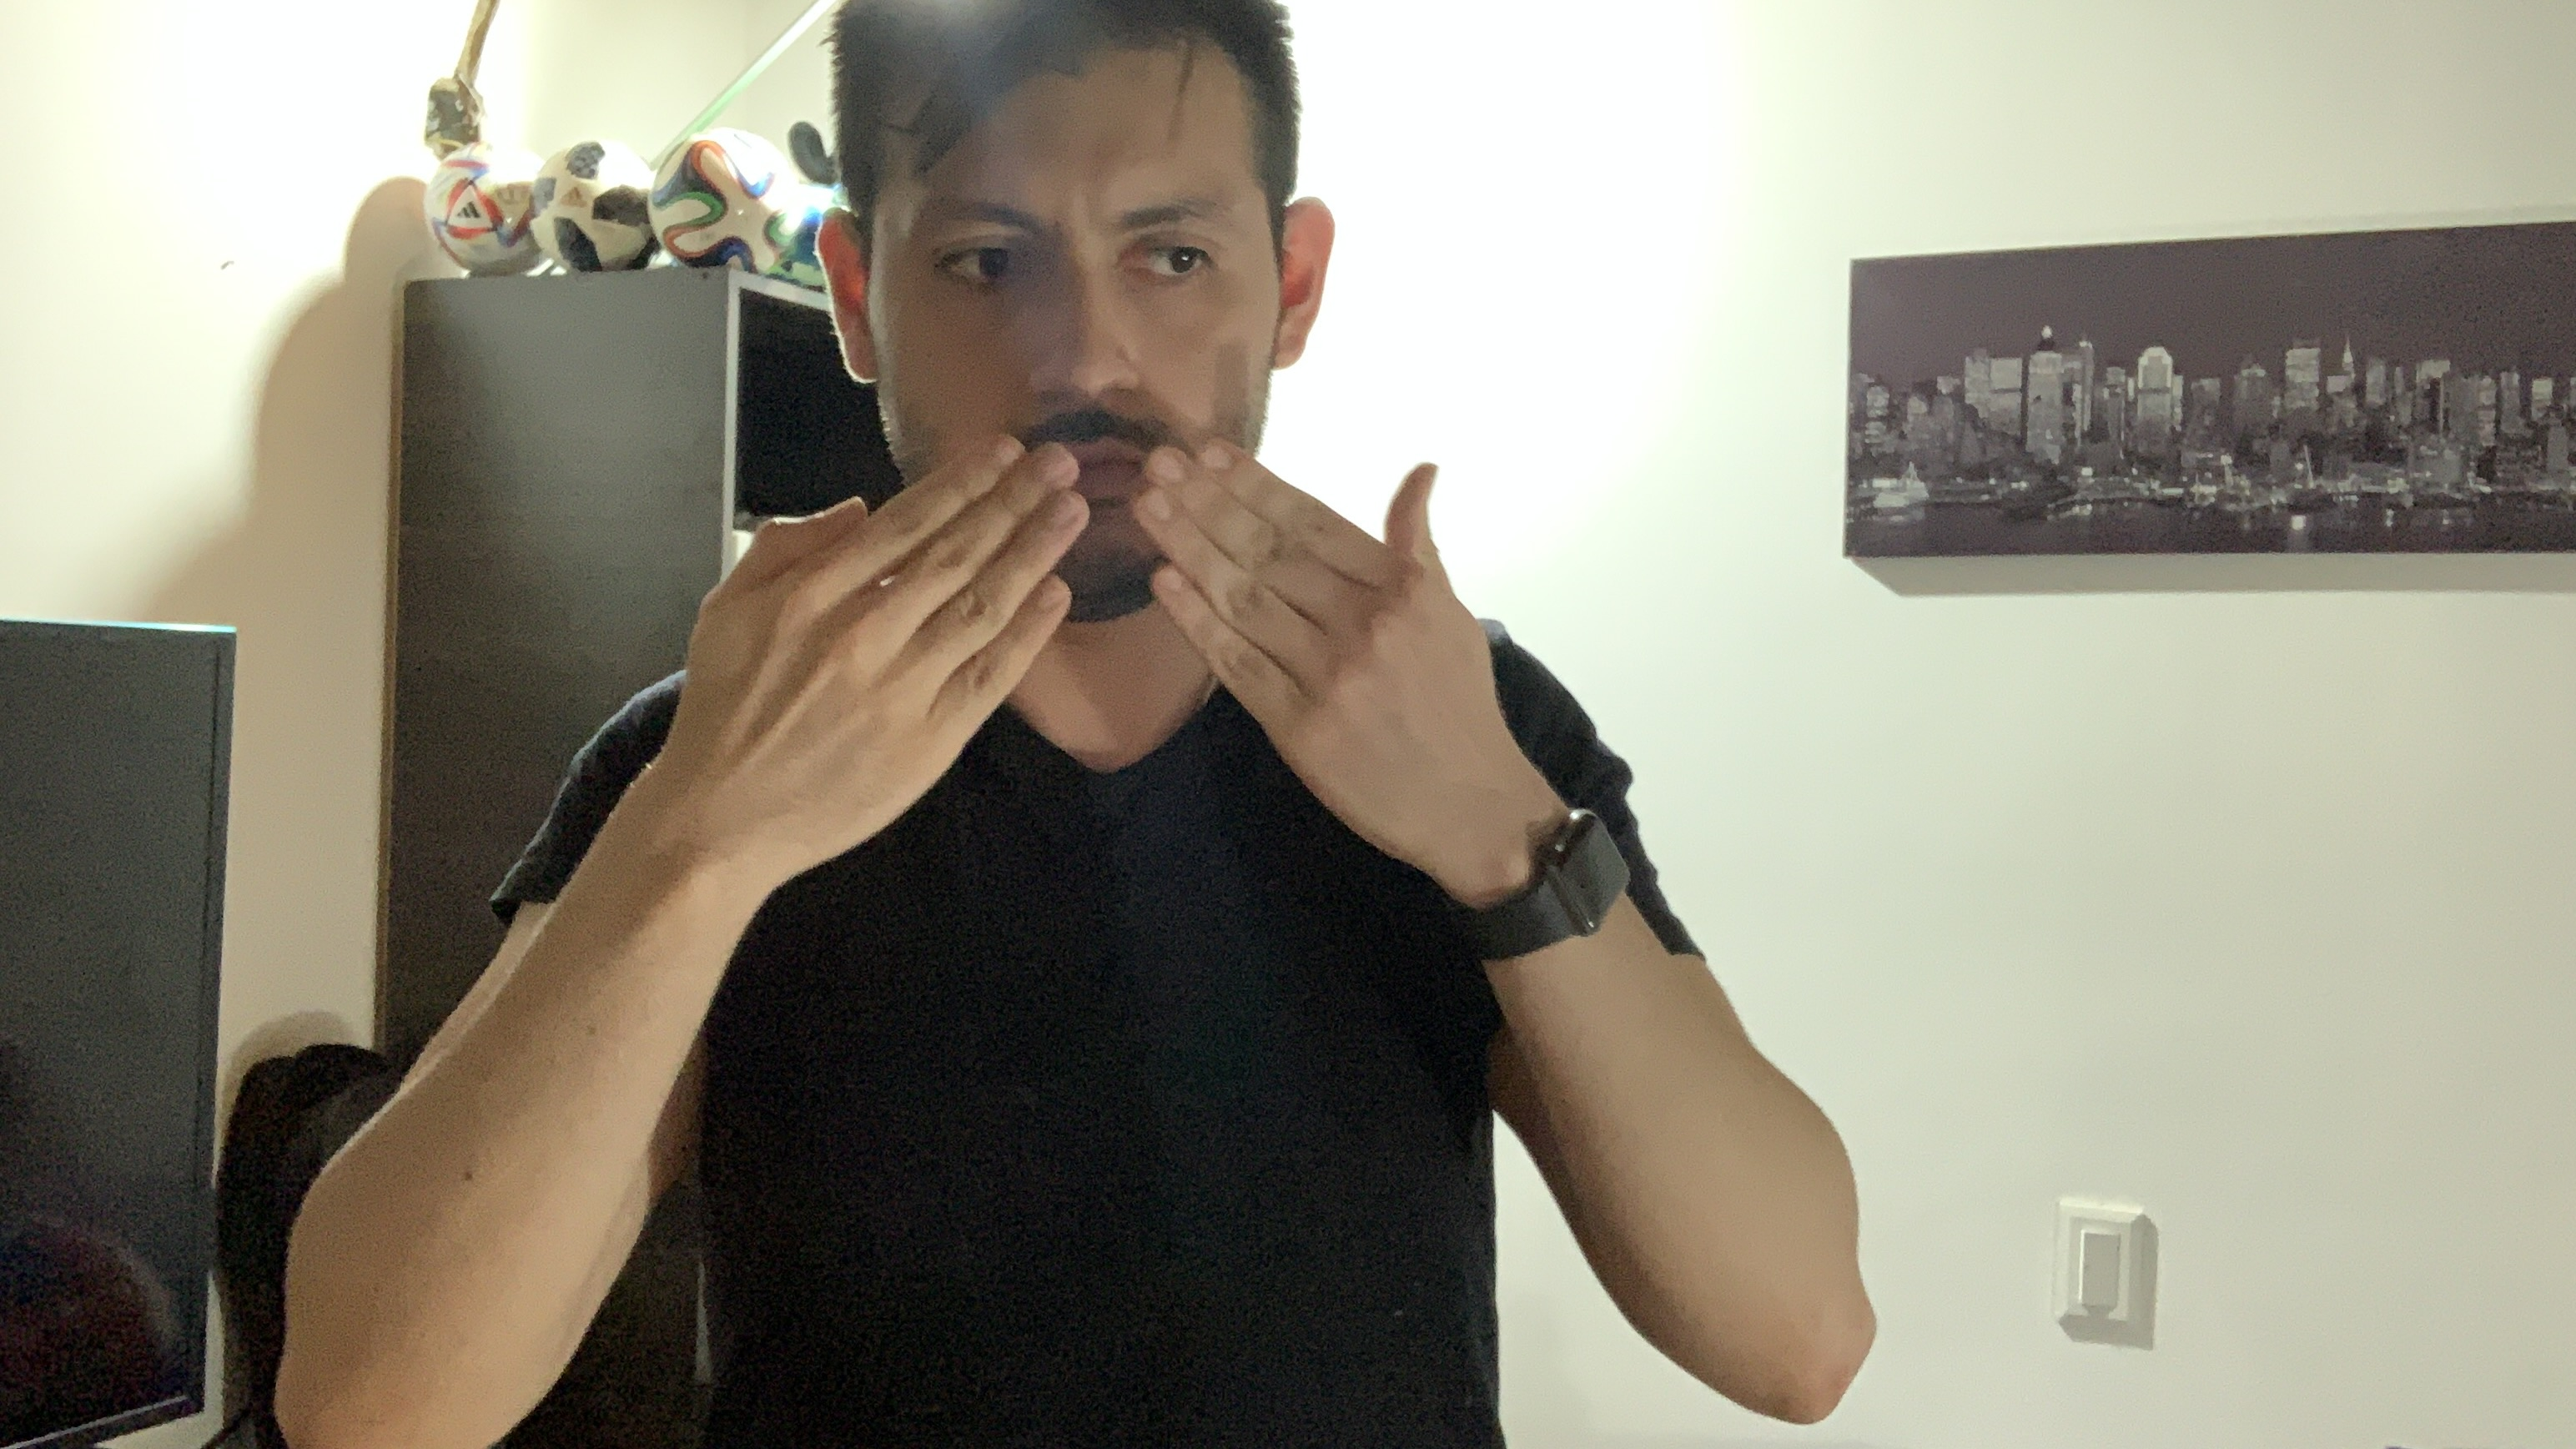Thank You: (669, 433, 1537, 870)
